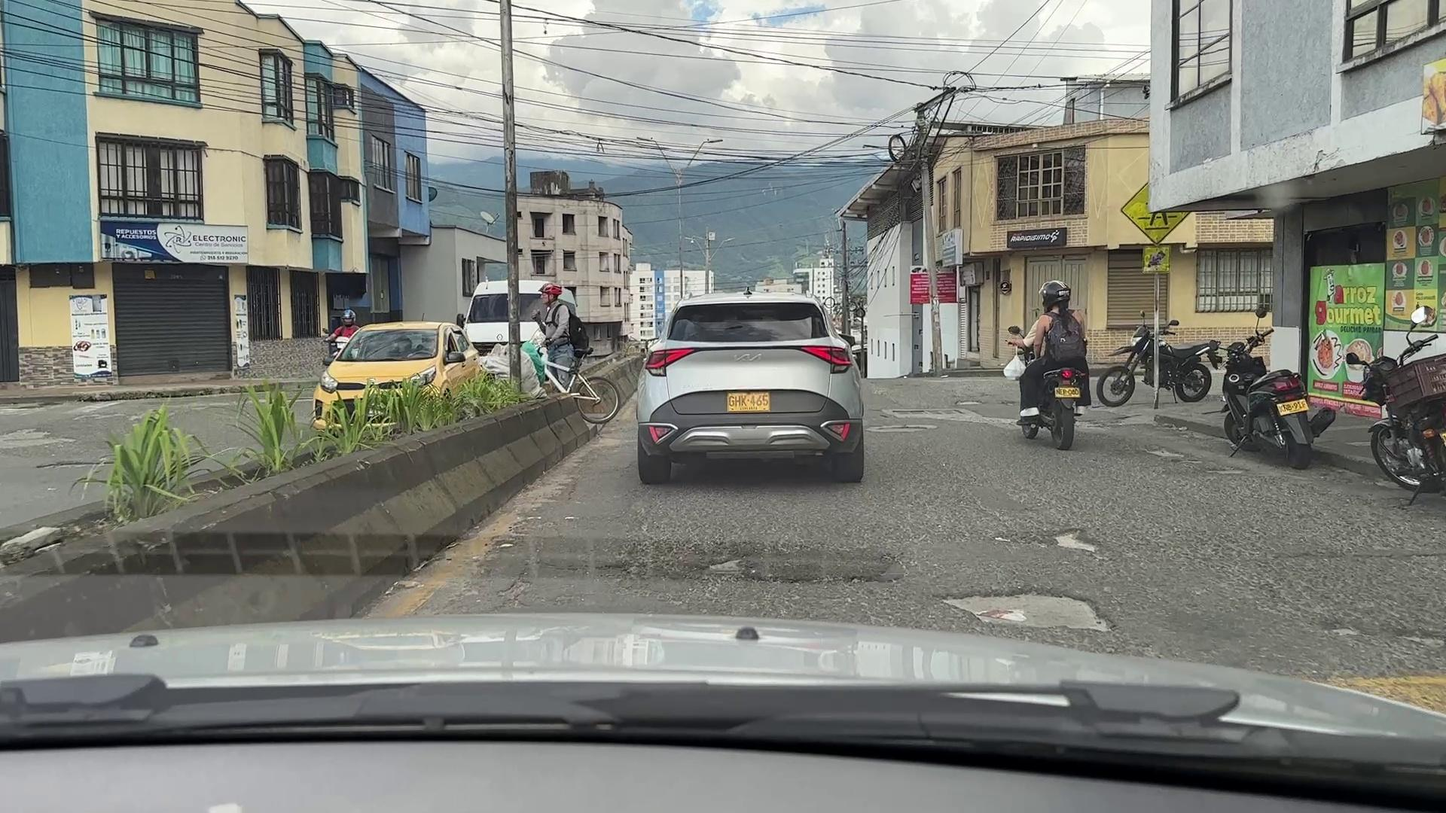bache: (935, 591, 1115, 630), (1054, 528, 1098, 555), (1397, 631, 1445, 647), (1144, 447, 1185, 459), (711, 559, 741, 571), (1331, 627, 1362, 635), (1206, 469, 1246, 474), (956, 400, 987, 405)
registro: (877, 427, 927, 430)
rejilla: (893, 409, 965, 415)
